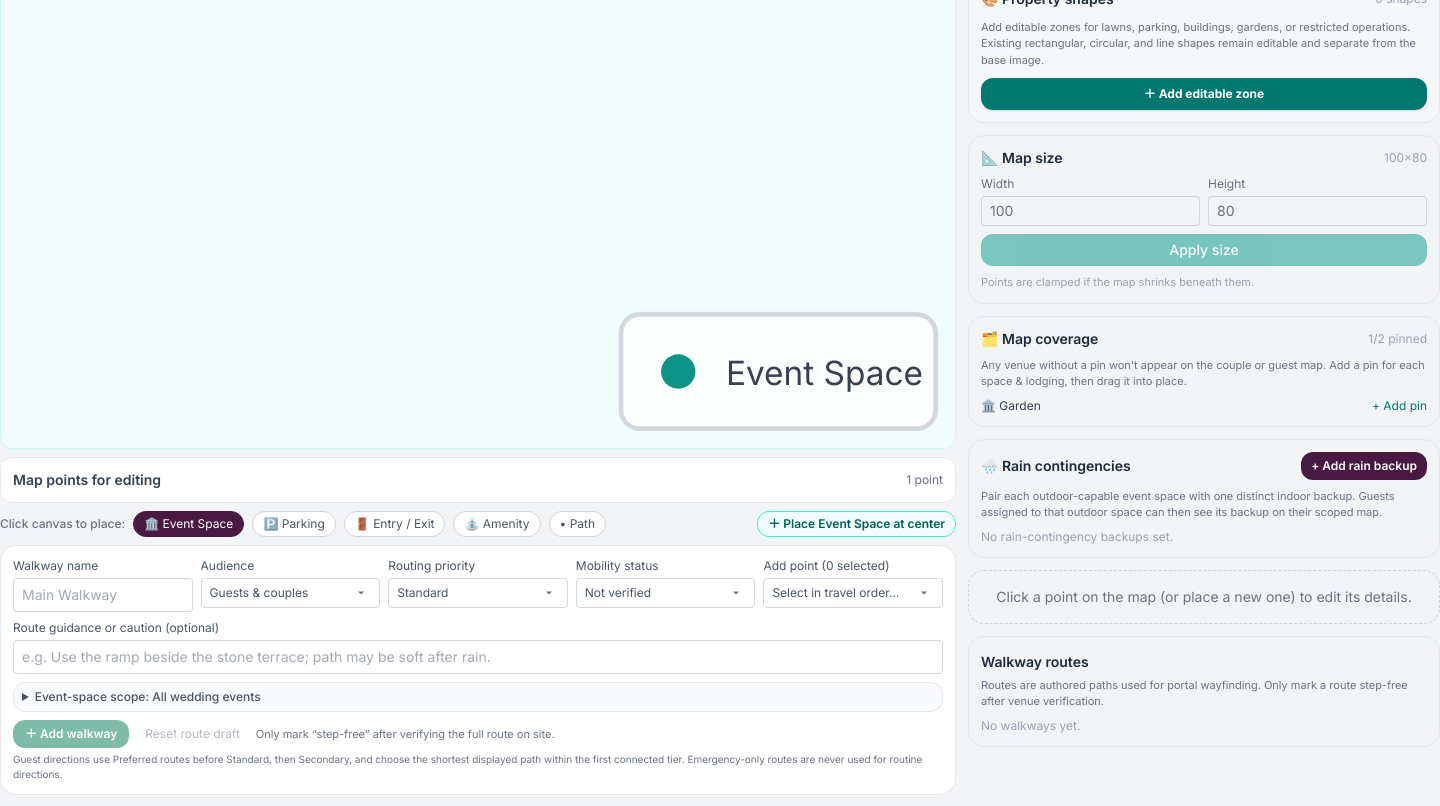
VenueMapDesigner › shows map coverage and adds a pin for a missing venue
This screenshot has width=1440, height=806.
(page scrolled)
Expected: the text "🗂️ Map coverage" is shown, [981, 328, 1098, 348]
Expected: the text "1/2 pinned" is shown, [1368, 330, 1427, 346]
What coordinates should you click on to do the following:
click the button "+ Add pin"
I would click on:
 (1400, 406)
Its box is [1372, 398, 1427, 414].
(page scrolled)
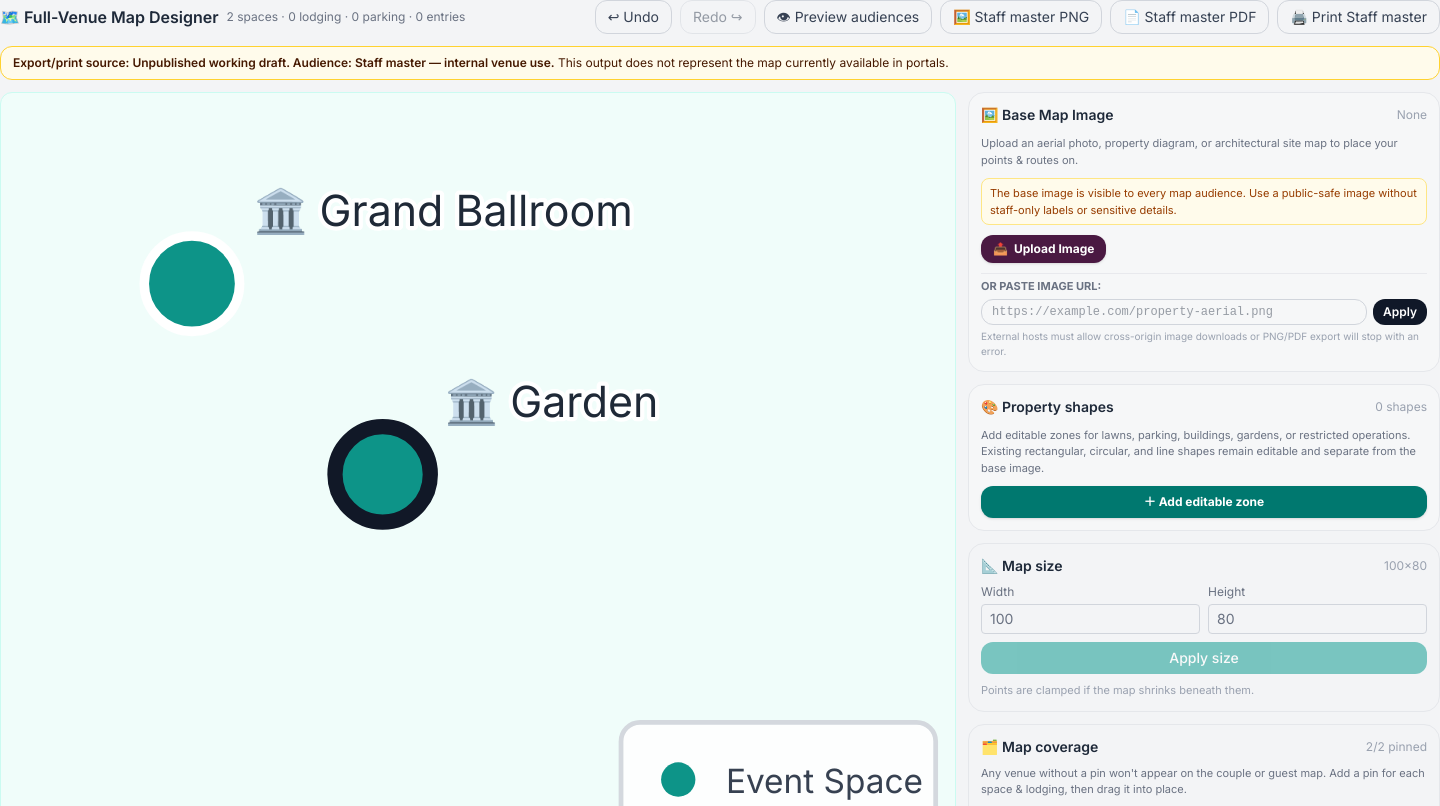
Now the text "2/2 pinned" is shown, box [1366, 738, 1427, 754]
Now the text "2 spaces · 0 lodging · 0 parking · 0 entries" is shown, box [227, 9, 465, 25]
